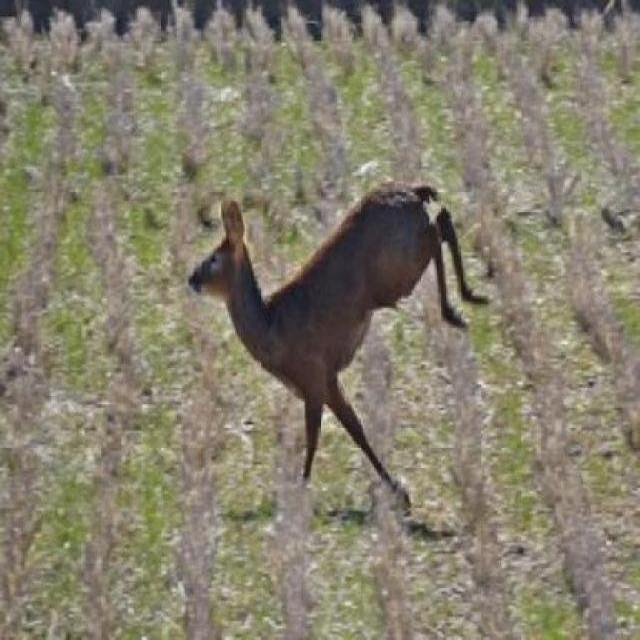deer: (186, 161, 492, 524)
